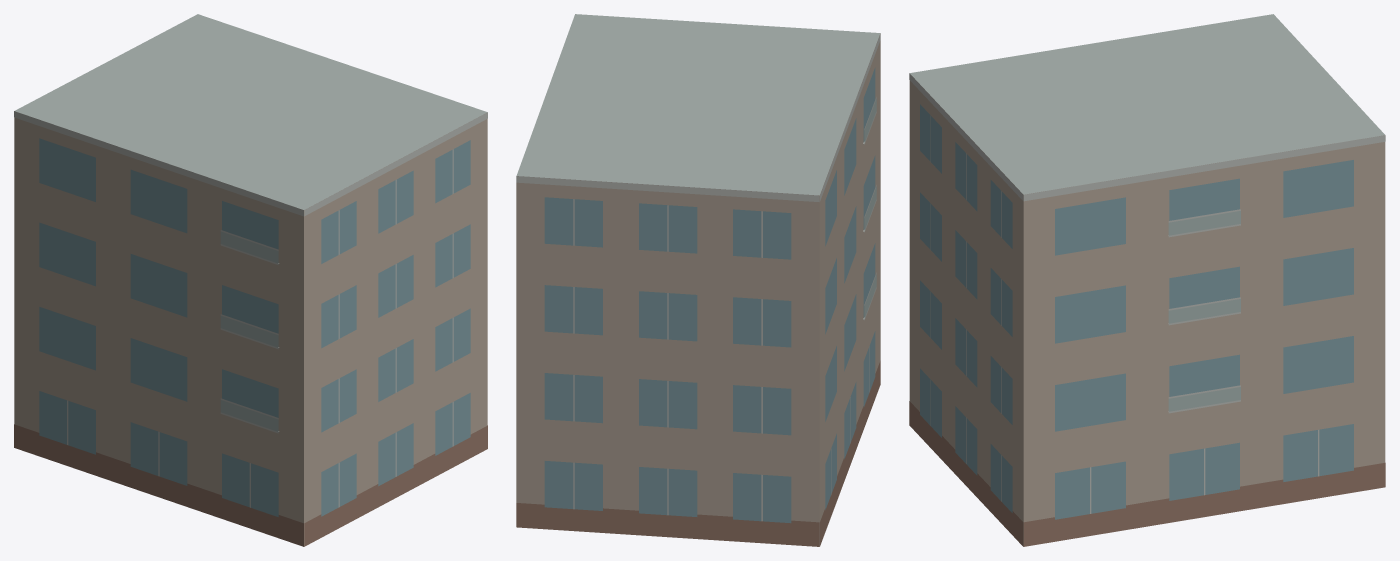
Rendered from survey-upis-32752150.glb.
3 renders of one model, left to right at view 1: azimuth 30°, elevation 25°; view 2: azimuth 150°, elevation 25°; view 3: azimuth 270°, elevation 25°, orthographic. The views are drawn at different scales.
Visible parts, largest first — view 1: survey-upis-32752150.tmp; view 2: survey-upis-32752150.tmp; view 3: survey-upis-32752150.tmp.
Boxes of the visible parts, x1,y1,x2,y2 form: survey-upis-32752150.tmp: (14, 14, 487, 546); survey-upis-32752150.tmp: (516, 14, 880, 546); survey-upis-32752150.tmp: (909, 14, 1385, 546).
Size of the model in its own units: 14.09 by 12.8 by 15.69.
